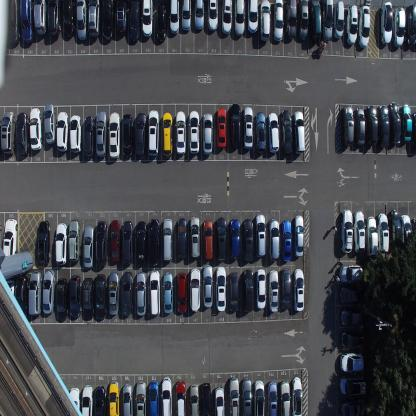car: (3, 218, 18, 262), (19, 0, 34, 44), (37, 219, 51, 266), (16, 273, 29, 323), (28, 270, 42, 316), (0, 109, 14, 154), (42, 268, 55, 316), (108, 111, 121, 159), (54, 221, 68, 265), (6, 0, 20, 44), (29, 107, 43, 151), (340, 208, 353, 254), (358, 3, 371, 49), (339, 286, 366, 308), (96, 220, 108, 269), (308, 0, 322, 42), (281, 110, 294, 155), (69, 274, 82, 319), (56, 277, 69, 322), (380, 0, 393, 45), (136, 219, 148, 267), (95, 272, 107, 320), (95, 109, 107, 157), (284, 0, 298, 41), (128, 0, 141, 44), (16, 112, 29, 156), (122, 219, 134, 266), (339, 376, 367, 396), (280, 219, 293, 262), (353, 210, 366, 253), (390, 208, 402, 254), (121, 270, 133, 316), (108, 270, 120, 316), (3, 279, 15, 325), (134, 112, 146, 158), (268, 112, 281, 154), (339, 351, 365, 372), (101, 0, 114, 42), (56, 110, 69, 152), (43, 102, 56, 144), (188, 109, 200, 154), (242, 268, 254, 313), (400, 212, 412, 257), (341, 105, 354, 146), (69, 113, 82, 154), (62, 0, 76, 38), (295, 109, 307, 153), (268, 218, 280, 262), (148, 218, 159, 266), (378, 104, 390, 148), (389, 100, 401, 144), (404, 4, 416, 48), (148, 109, 159, 157), (47, 0, 62, 35), (340, 330, 369, 348), (332, 0, 345, 40), (215, 106, 227, 149), (176, 217, 188, 260), (68, 219, 80, 262), (346, 3, 358, 46), (272, 0, 284, 43), (255, 214, 266, 260), (242, 218, 253, 264), (215, 216, 226, 262), (215, 266, 226, 312), (162, 111, 173, 157), (228, 219, 240, 261), (201, 219, 213, 261), (176, 272, 188, 314), (366, 216, 378, 258), (377, 212, 389, 254), (366, 104, 378, 146), (393, 6, 405, 48), (259, 0, 271, 42), (82, 114, 94, 156), (339, 264, 364, 284), (230, 103, 241, 148), (175, 110, 186, 155), (189, 267, 200, 312), (268, 268, 279, 313), (149, 270, 160, 315), (110, 219, 121, 264), (122, 113, 133, 158), (87, 0, 100, 38), (76, 0, 88, 41), (243, 105, 254, 149), (189, 215, 200, 259), (202, 264, 213, 308), (293, 268, 304, 312), (162, 218, 173, 262), (83, 224, 94, 268), (83, 276, 94, 320), (354, 106, 366, 146), (400, 103, 412, 143), (256, 111, 267, 154), (202, 112, 213, 155), (293, 214, 304, 257), (162, 271, 173, 314), (280, 268, 291, 310), (240, 377, 252, 415), (141, 0, 153, 38), (34, 0, 47, 35), (340, 309, 365, 327), (233, 0, 245, 37), (136, 272, 146, 316), (161, 375, 172, 415), (292, 376, 303, 416), (108, 380, 120, 416), (148, 380, 160, 416), (253, 379, 265, 415), (229, 271, 239, 313), (256, 268, 266, 310), (135, 380, 147, 415), (279, 380, 291, 415), (221, 0, 233, 35), (168, 0, 180, 35), (156, 0, 166, 42), (115, 0, 127, 35), (228, 377, 239, 415), (341, 400, 367, 416), (322, 0, 332, 41), (298, 0, 308, 40), (175, 379, 186, 415), (122, 383, 134, 415), (180, 0, 192, 32), (267, 381, 278, 415), (247, 0, 258, 34), (95, 386, 107, 416), (189, 383, 200, 415), (207, 0, 218, 32), (201, 381, 211, 415), (82, 385, 93, 415), (214, 386, 225, 415), (70, 386, 80, 416), (194, 0, 204, 30), (410, 216, 416, 261), (0, 219, 3, 262), (412, 111, 415, 152)
